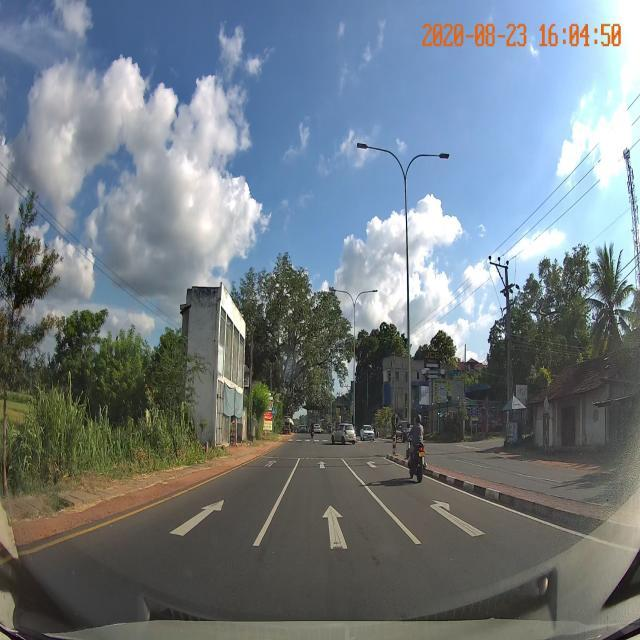forward: (239, 482, 439, 560)
